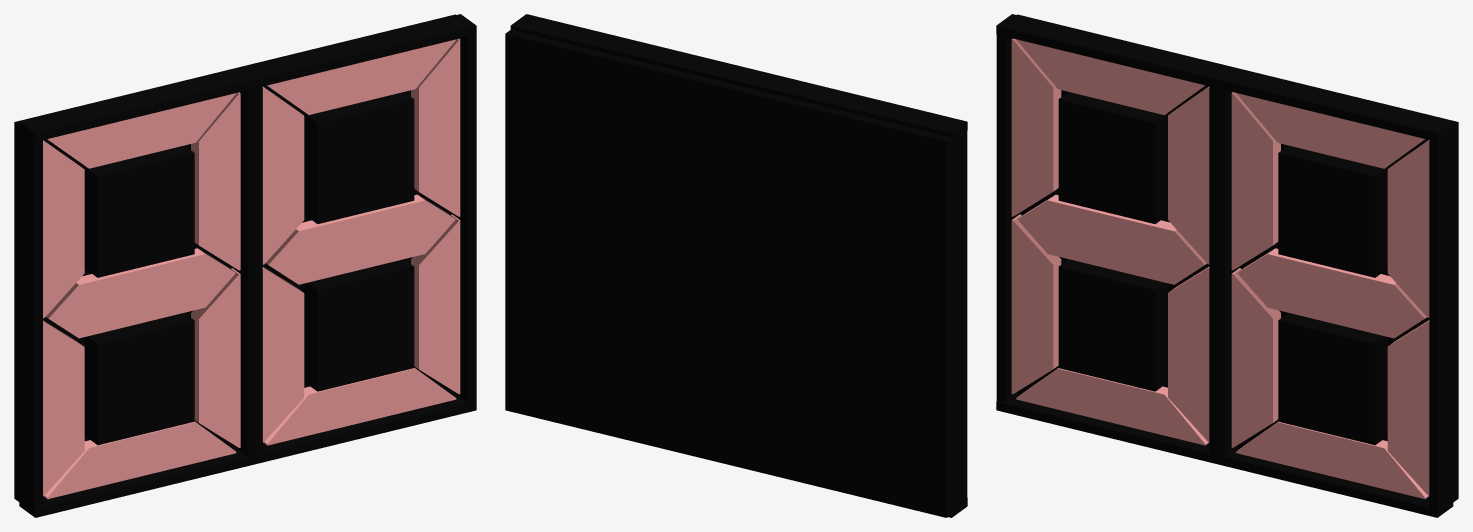
Rendered from turnero.fbx.
3 renders of one model, left to right at view 1: azimuth 30°, elevation 25°; view 2: azimuth 150°, elevation 25°; view 3: azimuth 330°, elevation 25°, orthographic.
Parts seen in each view (by area): view 1: Led1, Led1.001; view 2: Led1, Led1.001; view 3: Led1.001, Led1.
Part boxes in pixels (x1=…): Led1: x1=14, y1=67, x2=256, y2=517; Led1.001: x1=236, y1=14, x2=476, y2=463; Led1: x1=725, y1=67, x2=967, y2=517; Led1.001: x1=505, y1=14, x2=745, y2=463; Led1.001: x1=1216, y1=68, x2=1458, y2=517; Led1: x1=996, y1=14, x2=1238, y2=463.
Size of the model in its own units: 319 by 266 by 26.56.
